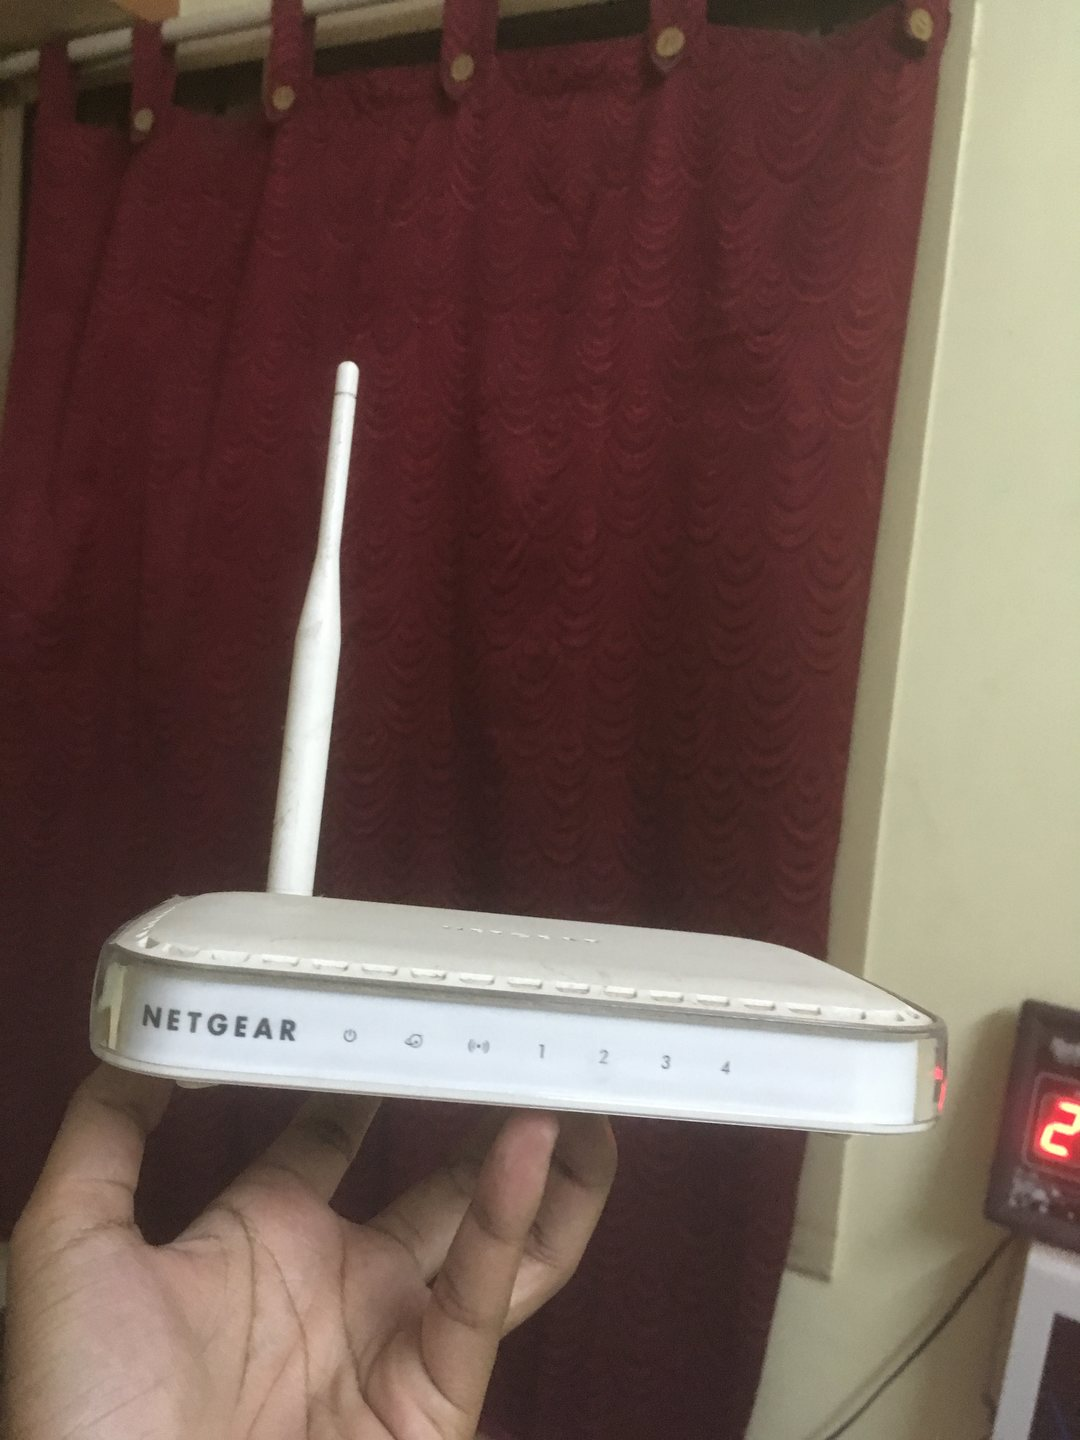NETGEAR: (129, 997, 304, 1047)
modem: (87, 935, 962, 1138)
